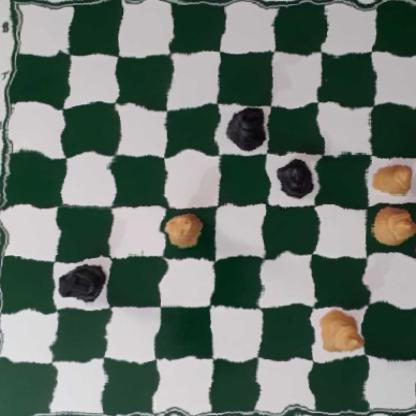black-king: (223, 104, 270, 150)
black-pawn: (276, 160, 312, 200)
black-rook: (58, 262, 109, 303)
white-bishop: (371, 207, 416, 252)
white-king: (317, 309, 366, 358)
white-pawn: (373, 161, 416, 199)
white-rook: (167, 211, 209, 250)
